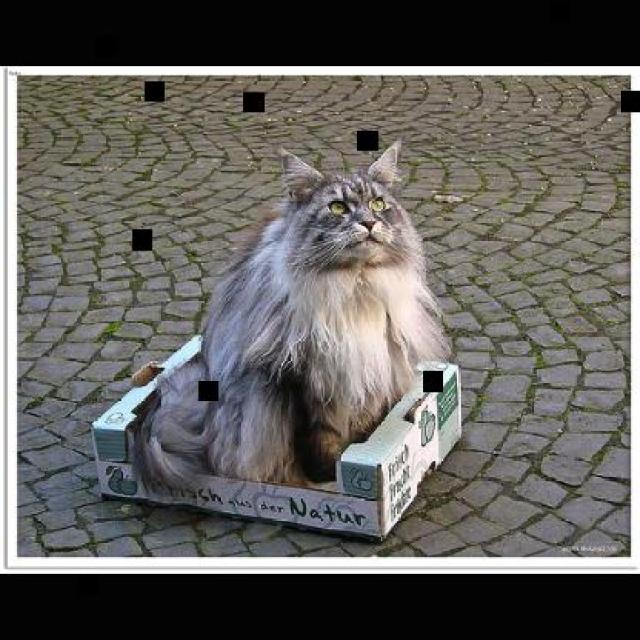unauthorized: (130, 137, 452, 500)
